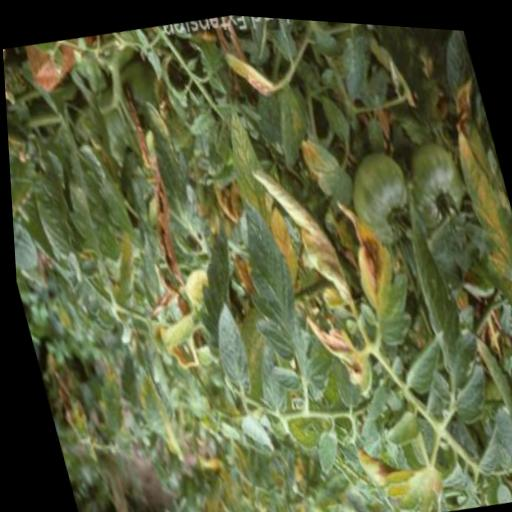Early Blight: (248, 155, 357, 323), (436, 75, 512, 280), (335, 193, 412, 349), (343, 427, 441, 512), (294, 303, 374, 395)
Healthy: (396, 200, 477, 377), (230, 198, 310, 362), (204, 297, 252, 394), (390, 322, 454, 392), (305, 421, 341, 471)
